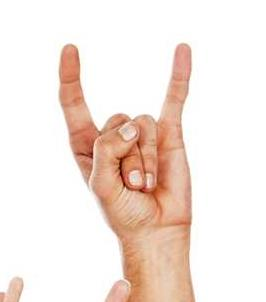clockwise: (57, 33, 212, 244)
